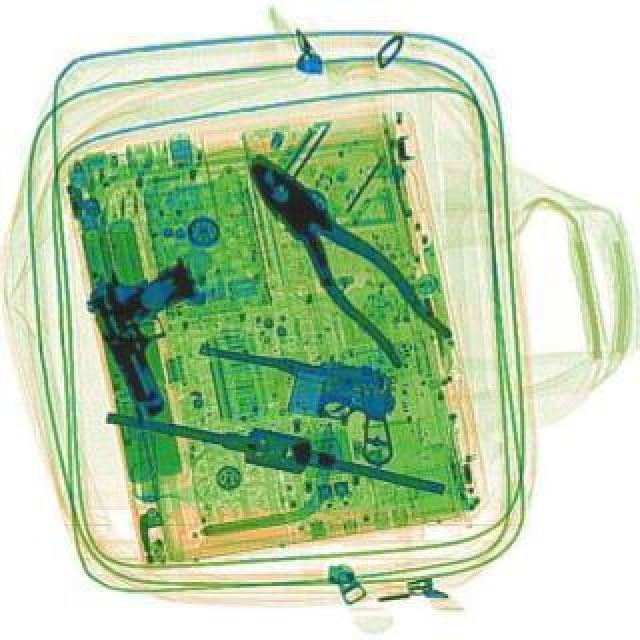gun: (180, 332, 410, 468), (80, 254, 232, 422)
wrench: (224, 134, 452, 376)
